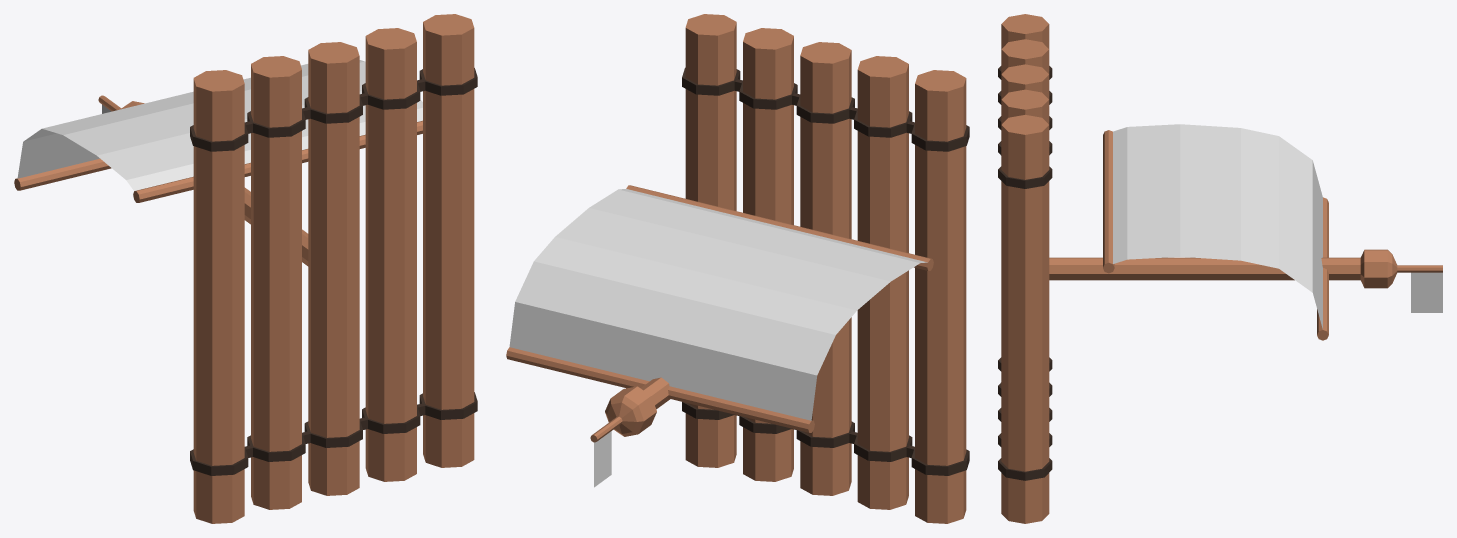
File: Raft4.fbx
3 renders of one model, left to right at view 1: azimuth 30°, elevation 25°; view 2: azimuth 150°, elevation 25°; view 3: azimuth 270°, elevation 25°, orthographic. The views are drawn at different scales.
Parts seen in each view (by area): view 1: raft; view 2: raft; view 3: raft.
Part boxes in pixels (x1,y1,x2,y2): raft: (14,14,477,523); raft: (506,14,969,523); raft: (998,14,1442,523).
Size of the model in its own units: 132 by 180 by 186.
